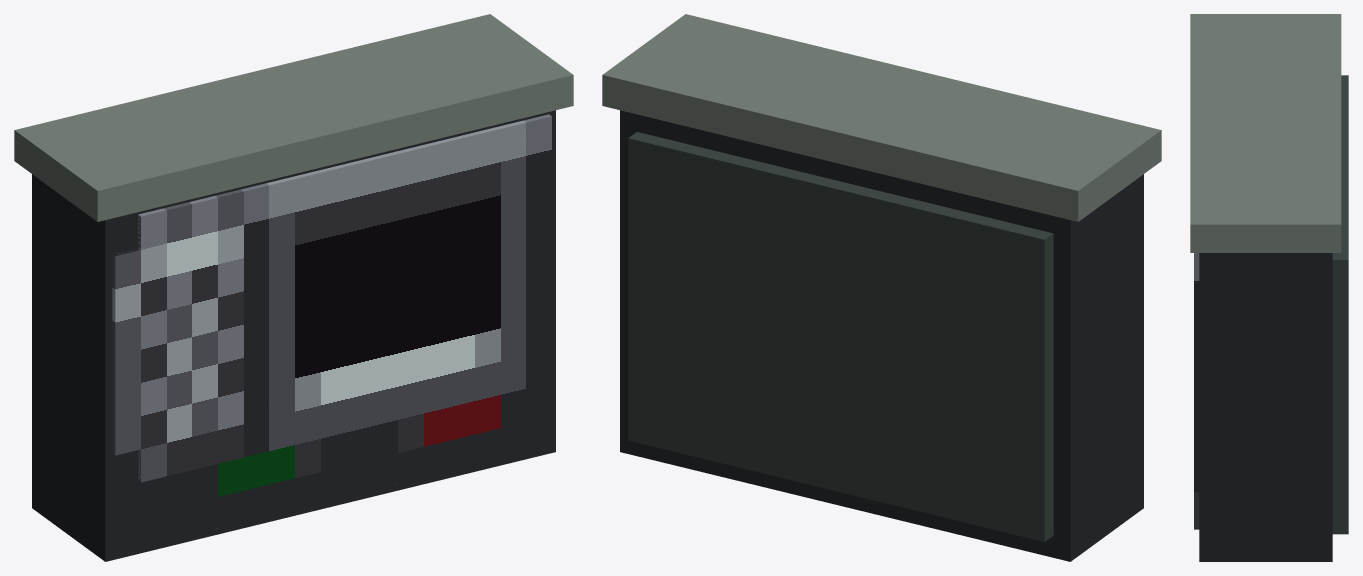
Rendered from CMU3DInteriorAU14VehicleRadioSet.glb.
3 renders of one model, left to right at view 1: azimuth 30°, elevation 25°; view 2: azimuth 150°, elevation 25°; view 3: azimuth 270°, elevation 25°, orthographic. The views are drawn at different scales.
Visible parts, largest first — view 1: source equipment controls, reinforced top, closed equipment casing; view 2: rear service plate, reinforced top, closed equipment casing; view 3: closed equipment casing, reinforced top, rear service plate, source equipment controls.
Part boxes in pixels (bbox=[...]): source equipment controls: bbox=[112, 114, 551, 530]; reinforced top: bbox=[14, 14, 573, 221]; closed equipment casing: bbox=[32, 110, 555, 561]; rear service plate: bbox=[628, 132, 1053, 541]; reinforced top: bbox=[602, 14, 1161, 221]; closed equipment casing: bbox=[620, 110, 1143, 561]; closed equipment casing: bbox=[1199, 253, 1332, 561]; reinforced top: bbox=[1190, 14, 1341, 252]; rear service plate: bbox=[1332, 75, 1348, 534]; source equipment controls: bbox=[1194, 253, 1199, 529].
Bounding box in the file's own units: 0.5613 × 0.4256 × 0.178.
Materials: 4 (1 with a texture image).
